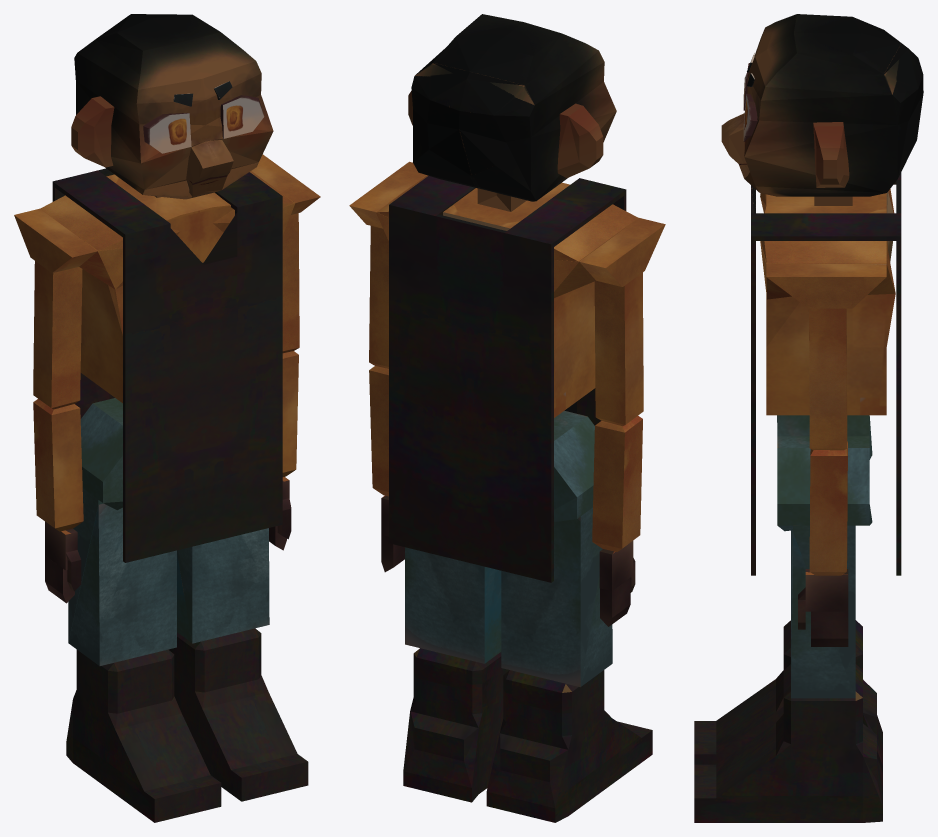
The model's file is modelBlacksmithNotFinal.fbx.
The picture shows the model from 3 angles, left to right: view 1: azimuth 30°, elevation 25°; view 2: azimuth 150°, elevation 25°; view 3: azimuth 270°, elevation 25°; orthographic projection. The views are drawn at different scales.
Parts seen in each view (by area): view 1: clothe neck, shoes, HEAD, upperarm, forearm, shoulderblade, clav, HANDS, EYES, ear; view 2: clothe neck, shoes, HEAD, upperarm, forearm, shoulderblade, clav, HANDS, ear; view 3: clothe neck, HEAD, shoes, upperarm, forearm, shoulderblade, clav, HANDS, ear, EYES.
Part boxes in pixels (x1,y1,x2,y2): clothe neck: (52,168,282,665); shoes: (66,628,308,822); HEAD: (74,14,273,199); upperarm: (33,213,299,409); forearm: (33,351,298,534); shoulderblade: (14,154,320,272); clav: (40,171,295,289); HANDS: (45,480,291,603); EYES: (143,95,264,153); ear: (71,96,114,167); clothe neck: (389,176,626,692); shoes: (403,648,652,822); HEAD: (411,14,616,201); upperarm: (369,226,643,426); forearm: (369,366,642,553); shoulderblade: (349,161,665,286); clav: (375,175,638,297); HANDS: (381,496,635,626); ear: (408,91,603,177); clothe neck: (751,172,901,700); HEAD: (721,14,923,196); shoes: (694,620,882,822); upperarm: (808,308,847,450); forearm: (805,441,847,575); shoulderblade: (766,264,886,308); clav: (760,189,895,299); HANDS: (798,569,848,646); ear: (813,122,849,187); EYES: (743,63,757,141).
Bounding box in the file's own units: 62.77 × 175 × 48.42.
